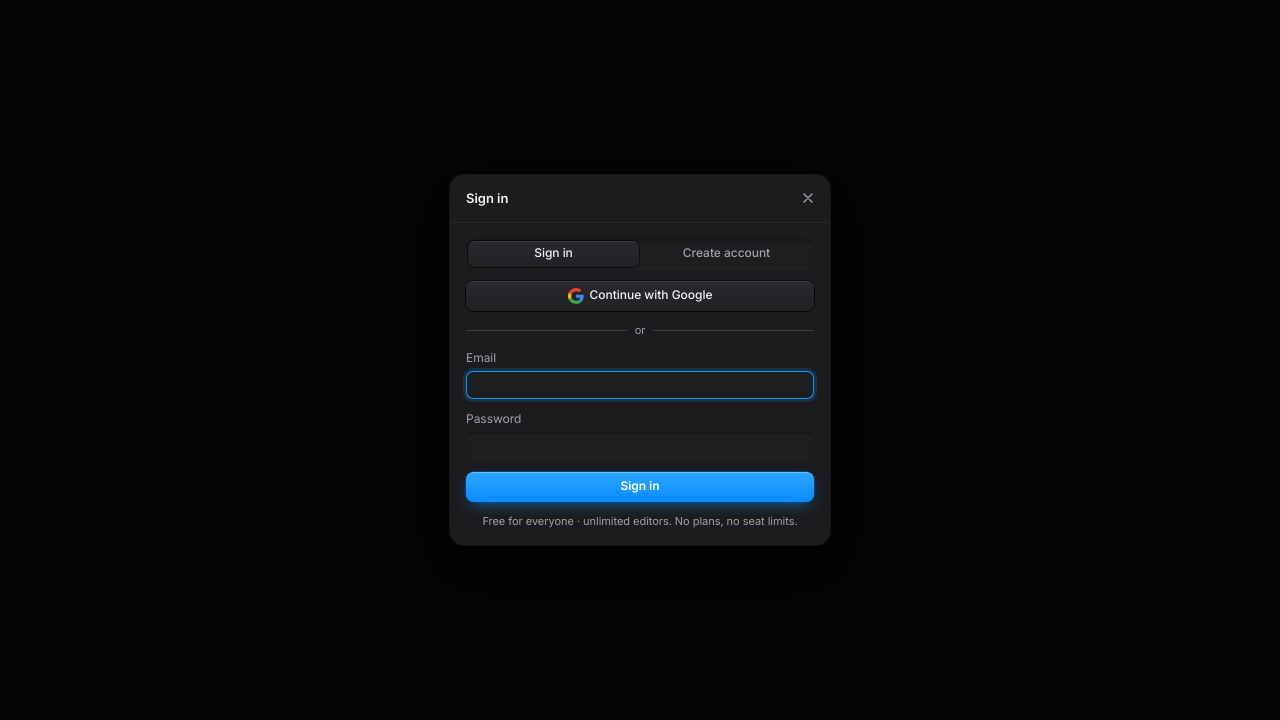
Test: Continue with Google › shows the button in both views when the server offers Google, before the email form
What coordinates should you click on to do the following:
click the tab "Create account"
I would click on:
 (726, 254)
Its box is [641,241,812,267].
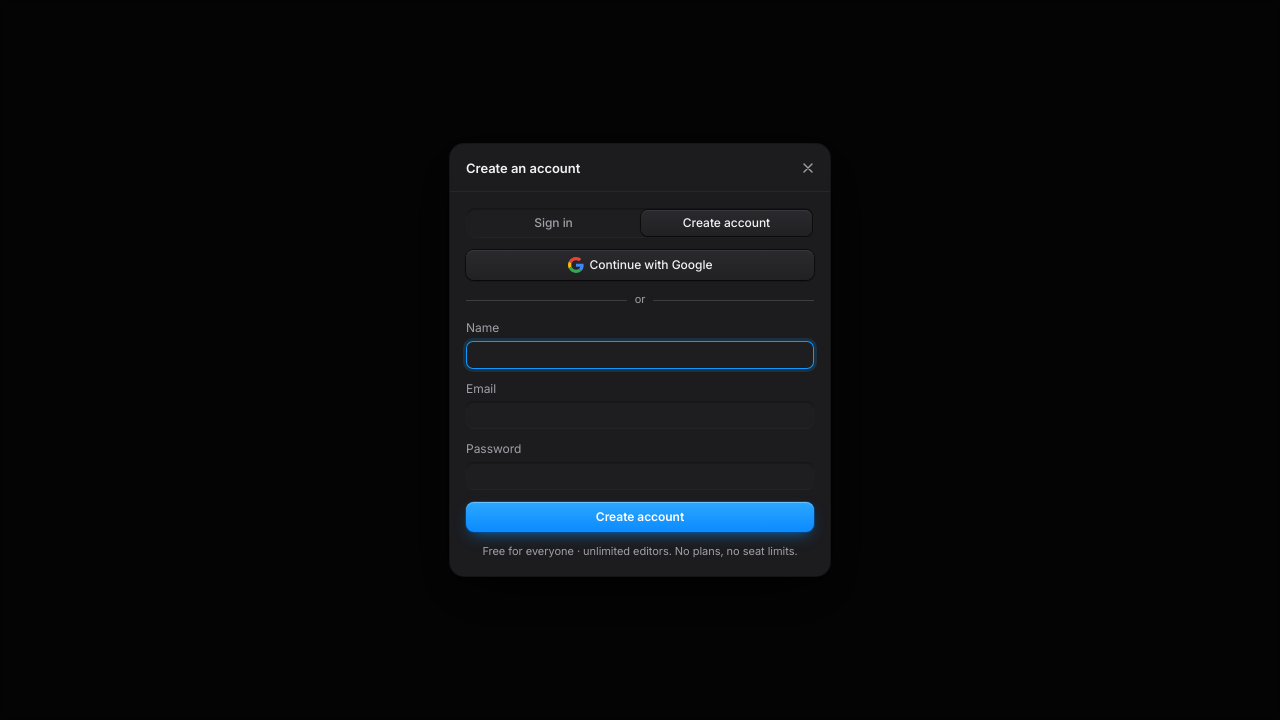
Expected: the button "Continue with Google" is shown, [466,250,814,280]
Expected: the button "Create account" is shown, [466,502,814,532]
